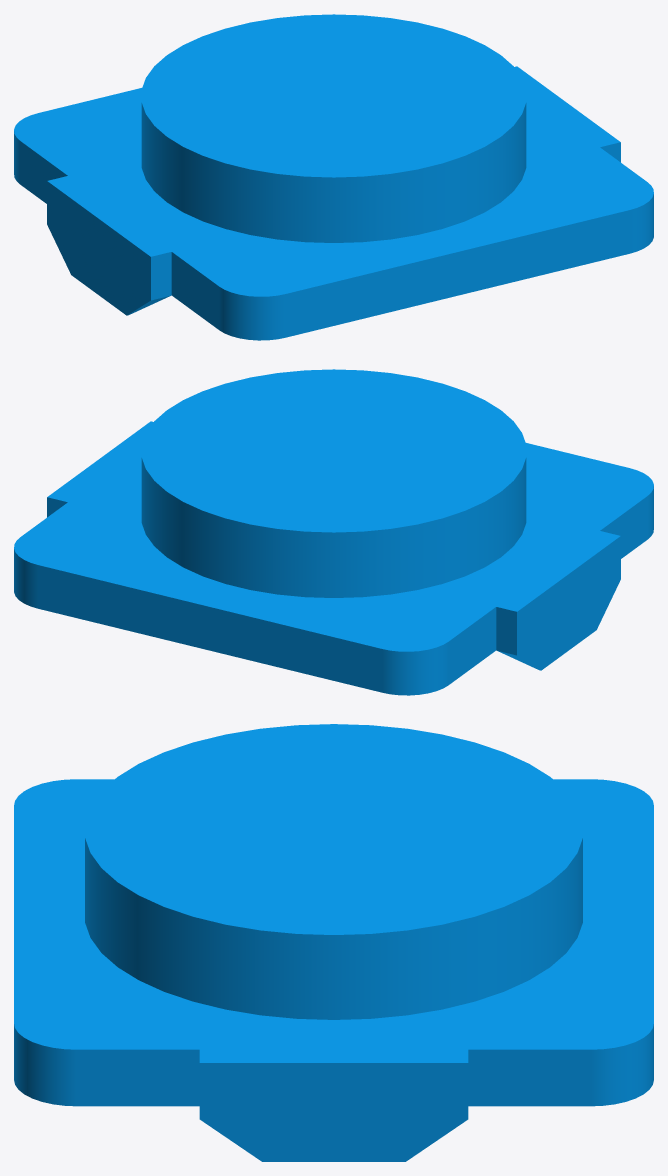
File: Foot.obj
3 renders of one model, top to bottom at view 1: azimuth 30°, elevation 25°; view 2: azimuth 150°, elevation 25°; view 3: azimuth 270°, elevation 25°, orthographic. The views are drawn at different scales.
Size of the model in its own units: 0.1125 by 0.0498 by 0.1025.
